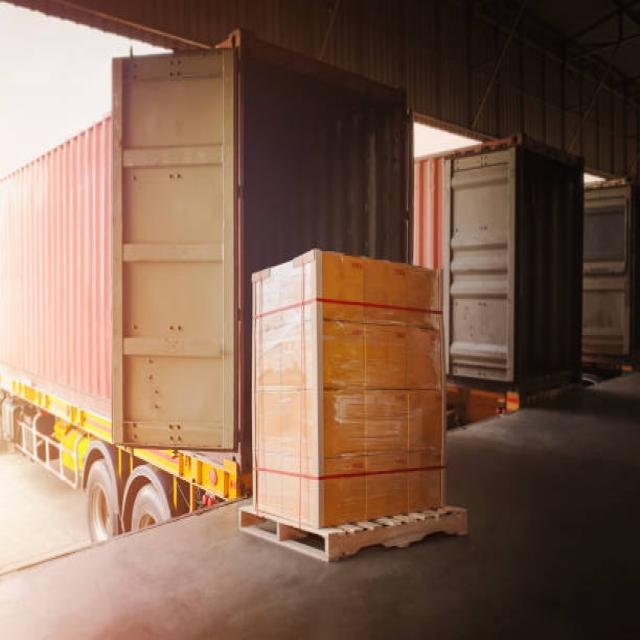Wooden-Pallets: (237, 502, 472, 564)
